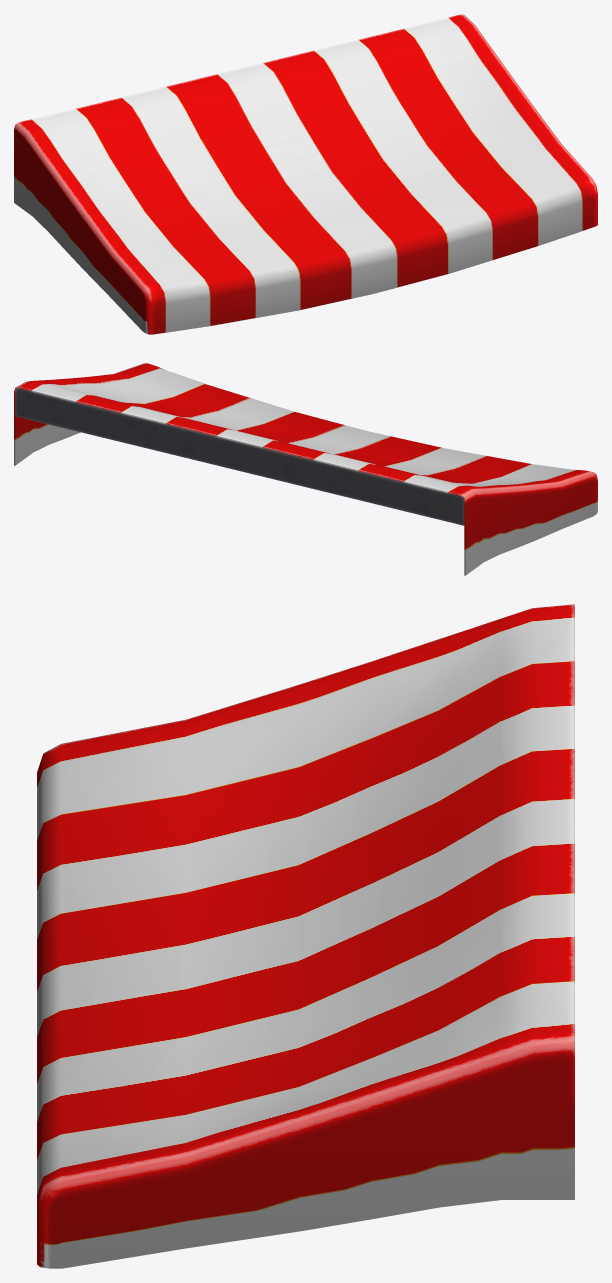
File: StreetAwning01_2.FBX
3 renders of one model, top to bottom at view 1: azimuth 30°, elevation 25°; view 2: azimuth 150°, elevation 25°; view 3: azimuth 270°, elevation 25°, orthographic. The views are drawn at different scales.
Parts seen in each view (by area): view 1: StreetAwning01_2; view 2: StreetAwning01_2; view 3: StreetAwning01_2.
Part boxes in pixels (x1,y1,x2,y2): StreetAwning01_2: (14,14,597,334); StreetAwning01_2: (14,363,597,575); StreetAwning01_2: (37,604,574,1268).
Size of what is drawn, in the model's own units: 3.33 by 0.897 by 1.72.
